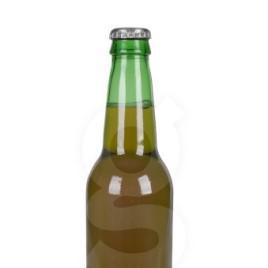beer: (86, 28, 173, 268)
